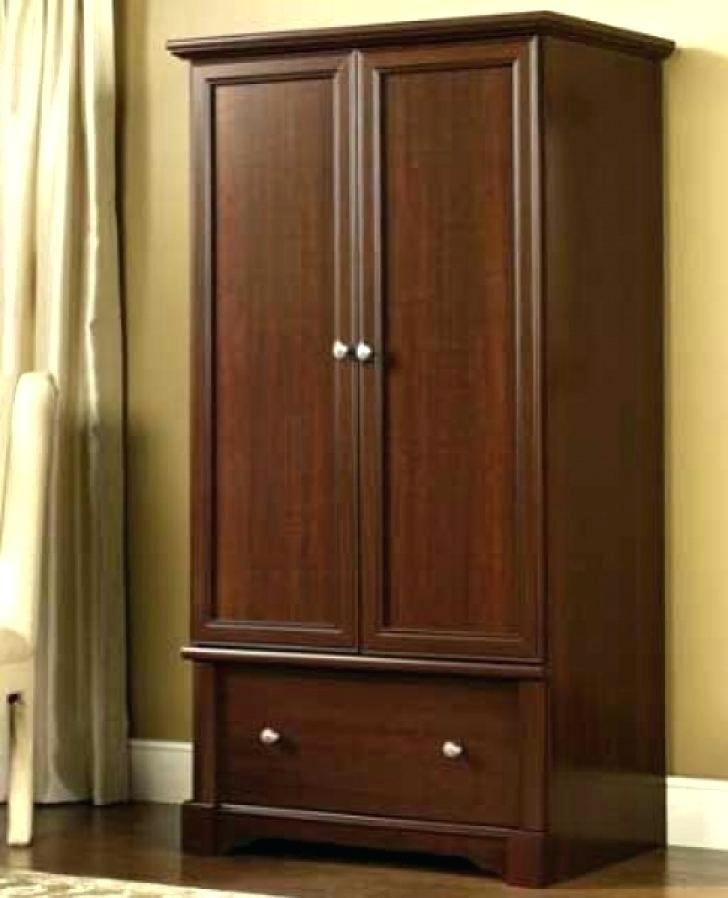Armario: (156, 27, 679, 872)
